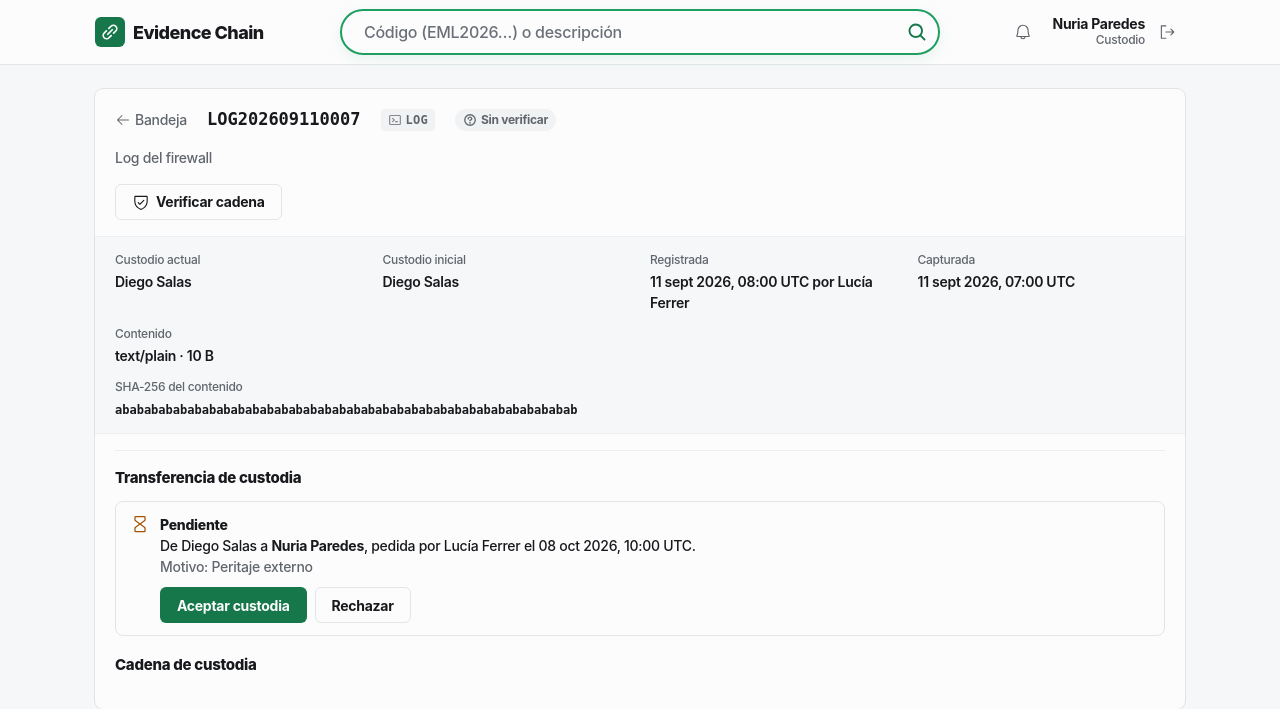
it: TransferPanel › needs a reason to reject, pointing at the field, and sends it
expect the heading "LOG202609110007" is shown: met, box [207, 107, 360, 132]
Click the button "Rechazar": (363, 605) [314, 587, 411, 623]
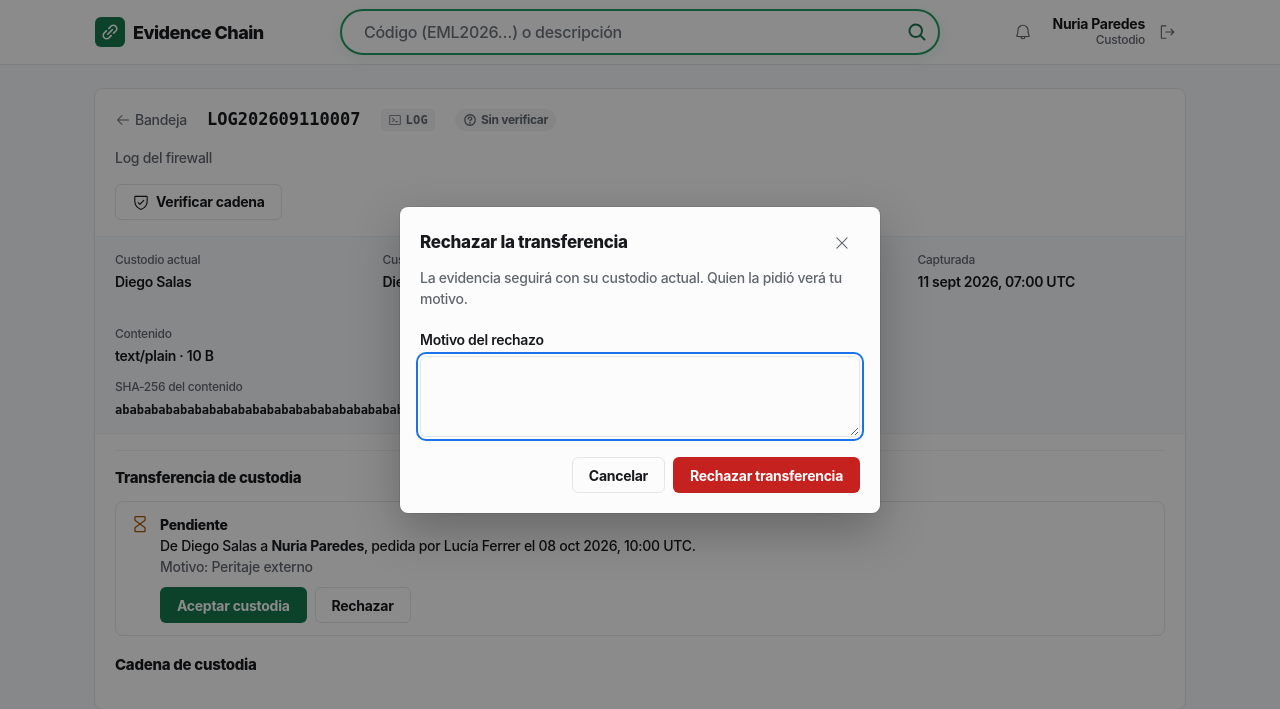
Click the button "Rechazar transferencia": (766, 475) [673, 457, 860, 493]
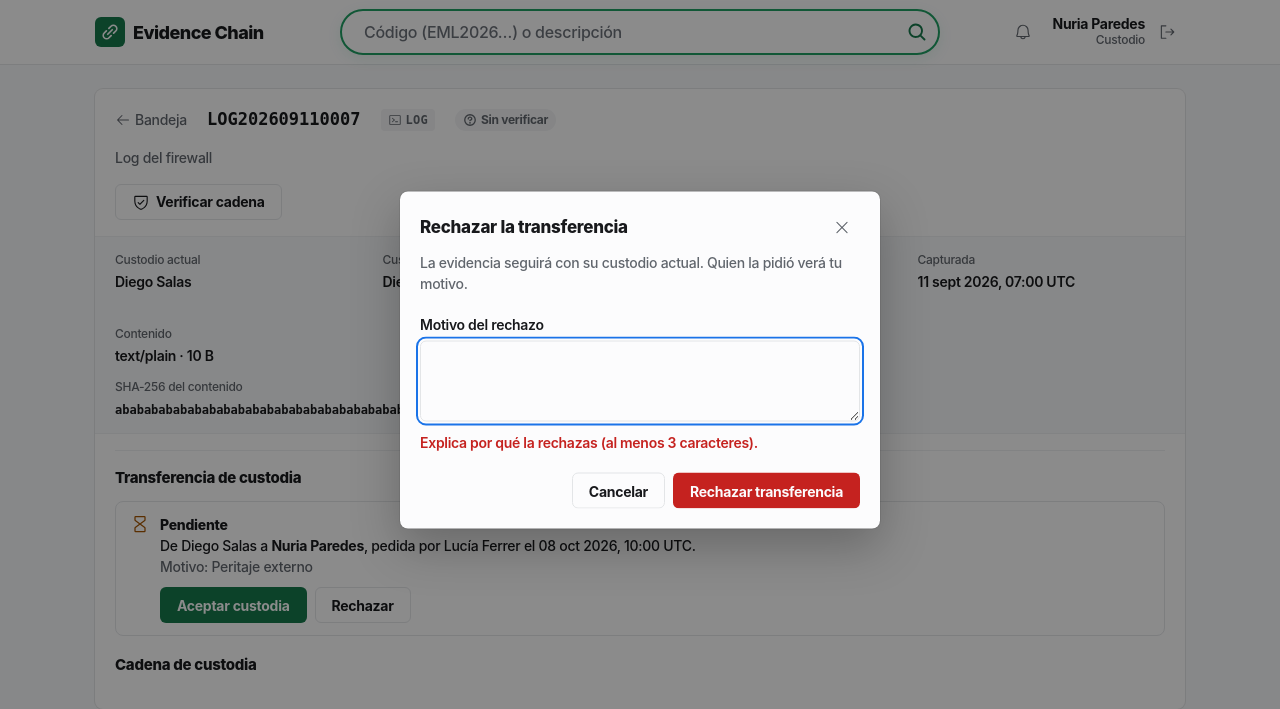
expect the text box labelled "Motivo del rechazo" is marked as invalid: met
In the text box labelled "Motivo del rechazo": (640, 381) [420, 340, 860, 422], type "Sin orden"
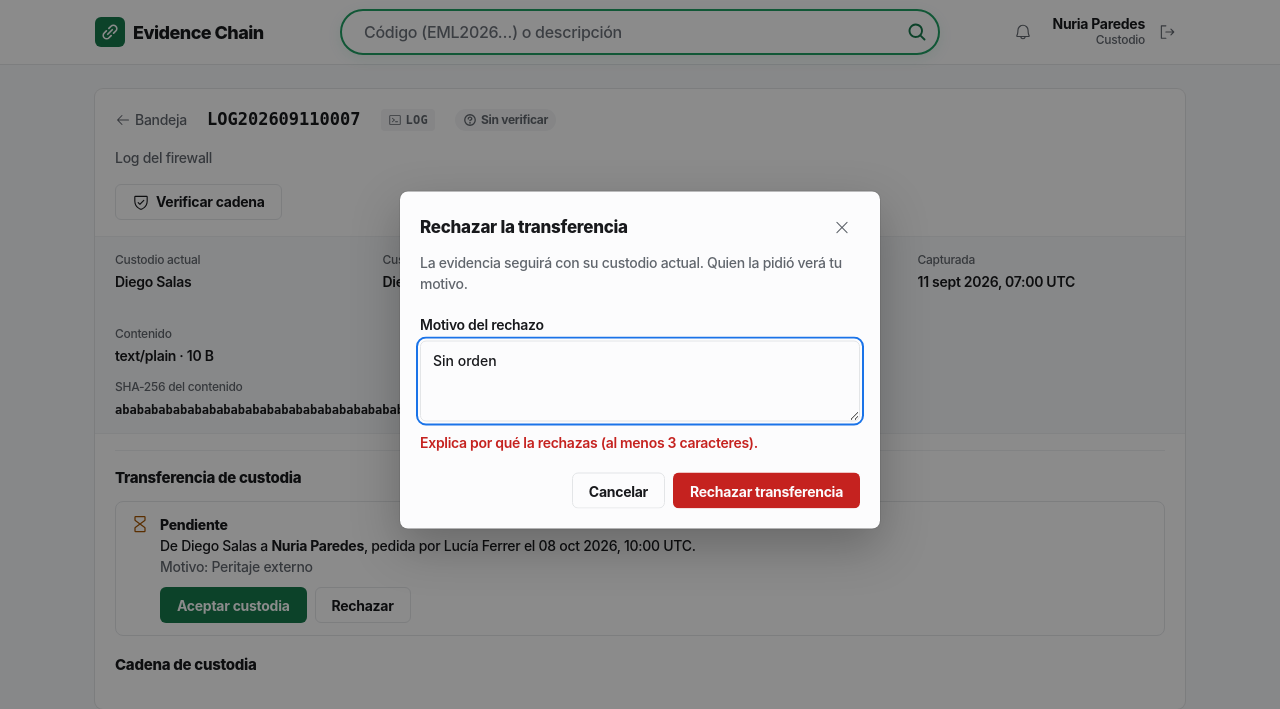
Click the button "Rechazar transferencia": (766, 490) [673, 472, 860, 508]
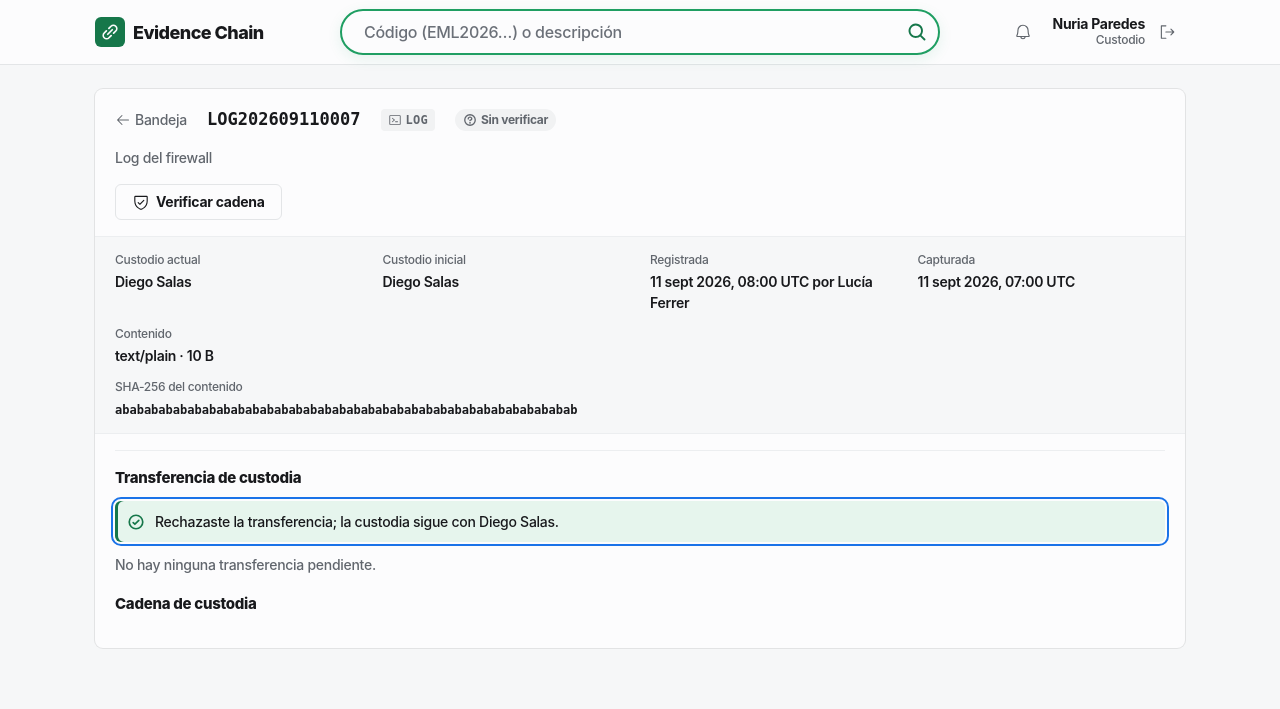
expect the text "Rechazaste la transferencia; la custodia sigue con Diego Salas." is shown: met, box [155, 513, 559, 530]
